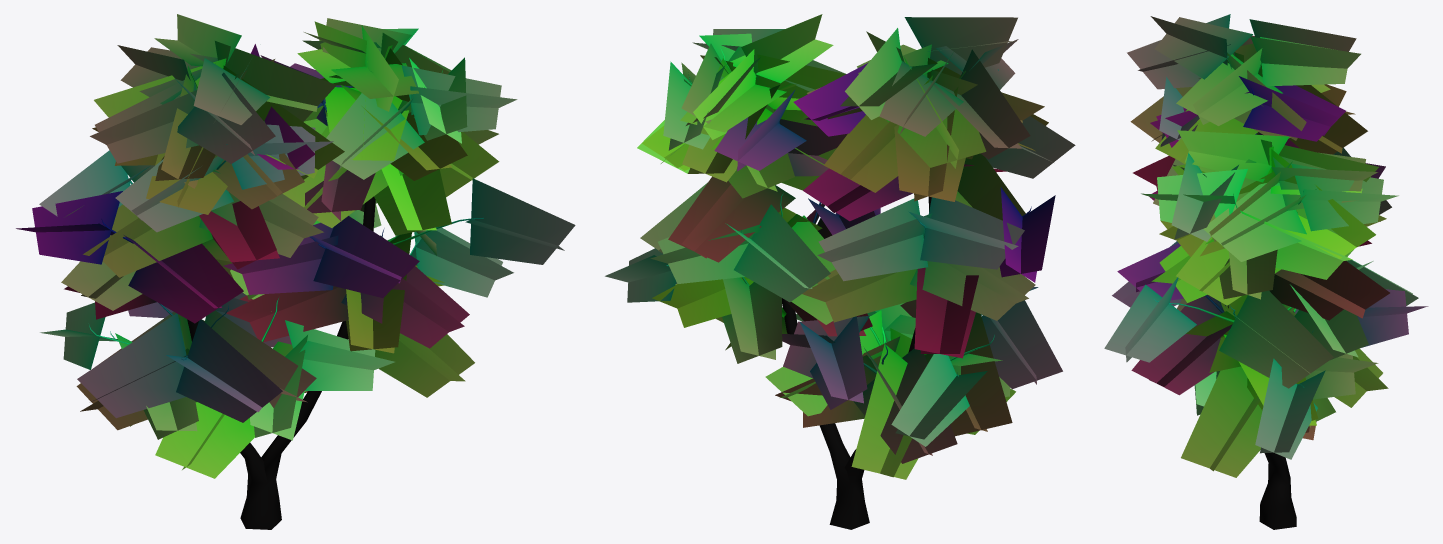
File: M_Realistic7_15.fbx
The picture shows the model from 3 angles, left to right: view 1: azimuth 30°, elevation 25°; view 2: azimuth 150°, elevation 25°; view 3: azimuth 270°, elevation 25°; orthographic projection. The views are drawn at different scales.
Parts seen in each view (by area): view 1: Tree_15; view 2: Tree_15; view 3: Tree_15.
Boxes of the visible parts, x1=… form: Tree_15: x1=16, y1=14, x2=575, y2=529; Tree_15: x1=605, y1=14, x2=1075, y2=529; Tree_15: x1=1104, y1=14, x2=1428, y2=529.
Size of the model in its own units: 1623 by 1670 by 1046.
